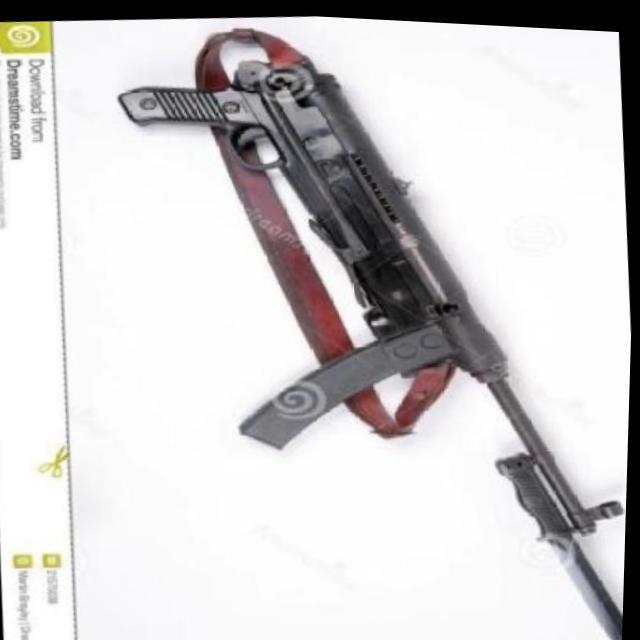weapon: (97, 5, 640, 640)
